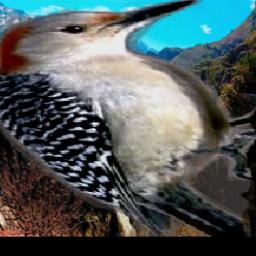Woodpecker: (0, 0, 256, 237)
